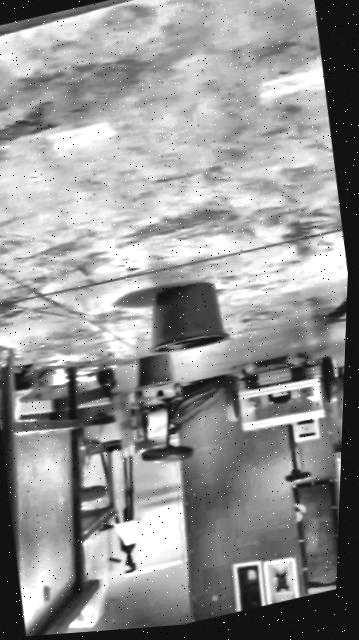pot: (138, 276, 230, 358), (131, 352, 174, 393)
